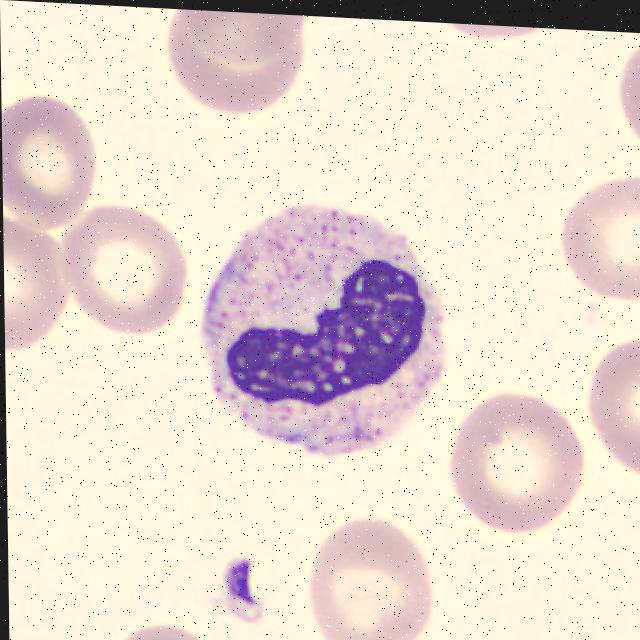neutrophil: (199, 180, 449, 466)
platelets: (220, 548, 278, 619)
rbc: (446, 392, 578, 536), (302, 513, 431, 640), (69, 206, 186, 344), (158, 16, 302, 113), (2, 105, 101, 243), (562, 173, 640, 303), (3, 232, 70, 356), (585, 339, 640, 477), (177, 9, 306, 65), (447, 23, 554, 49), (125, 615, 214, 640), (620, 45, 640, 148)
